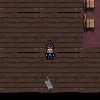Victim: (44, 38, 56, 62)
Win: (44, 76, 55, 92)
